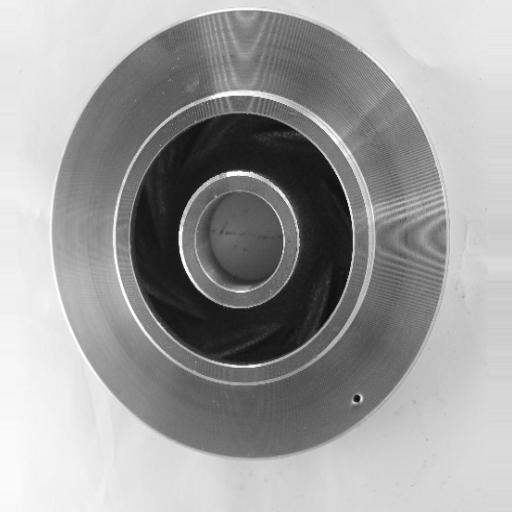pit: (340, 386, 371, 415)
unpolished_casting: (48, 7, 451, 463)
